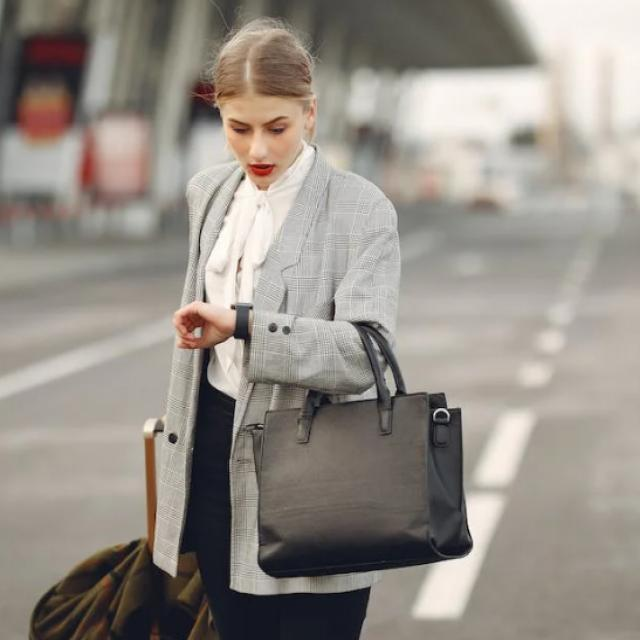Watch: (225, 296, 254, 346)
